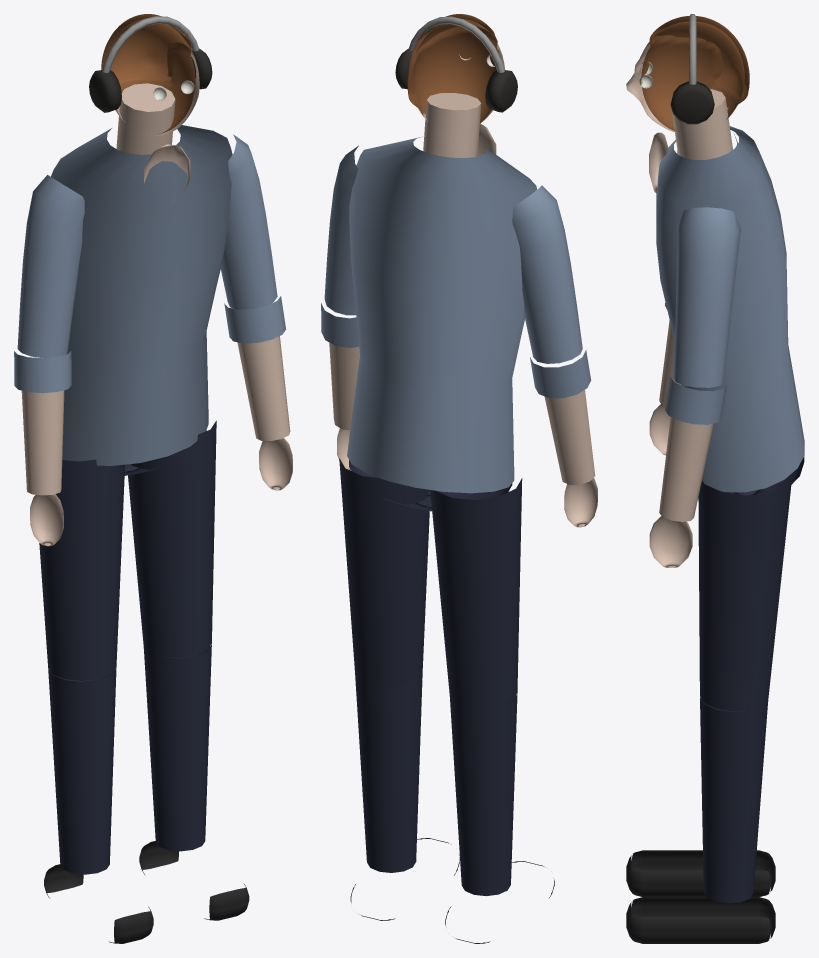
Rendered from radio_standing.glb.
The picture shows the model from 3 angles, left to right: view 1: azimuth 30°, elevation 25°; view 2: azimuth 150°, elevation 25°; view 3: azimuth 270°, elevation 25°; orthographic projection.
Parts seen in each view (by area): view 1: body, head; view 2: body, head; view 3: body, head.
Part boxes in pixels (box(x1,y1,x2,y2)): body: box(14, 83, 292, 943); head: box(89, 14, 212, 135); body: box(321, 93, 597, 943); head: box(395, 14, 517, 123); body: box(626, 89, 804, 943); head: box(626, 14, 749, 132).
Bounding box in the file's own units: 0.5537 × 1.79 × 0.3231.
